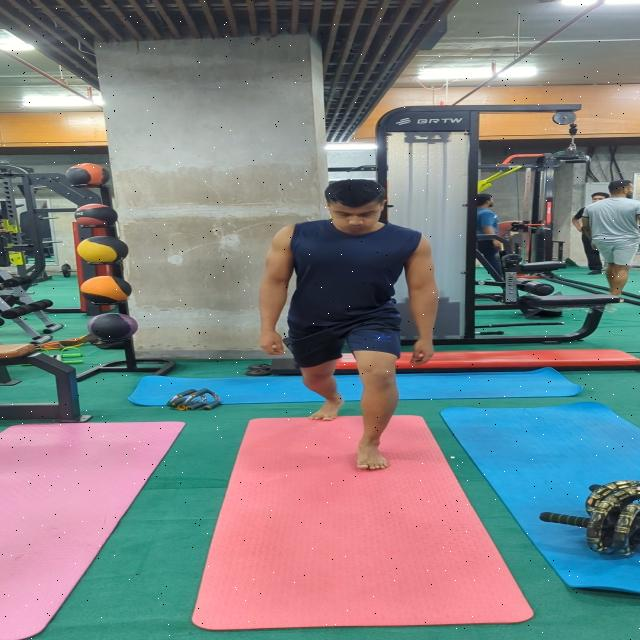Normal_Lunges: (254, 176, 437, 476)
